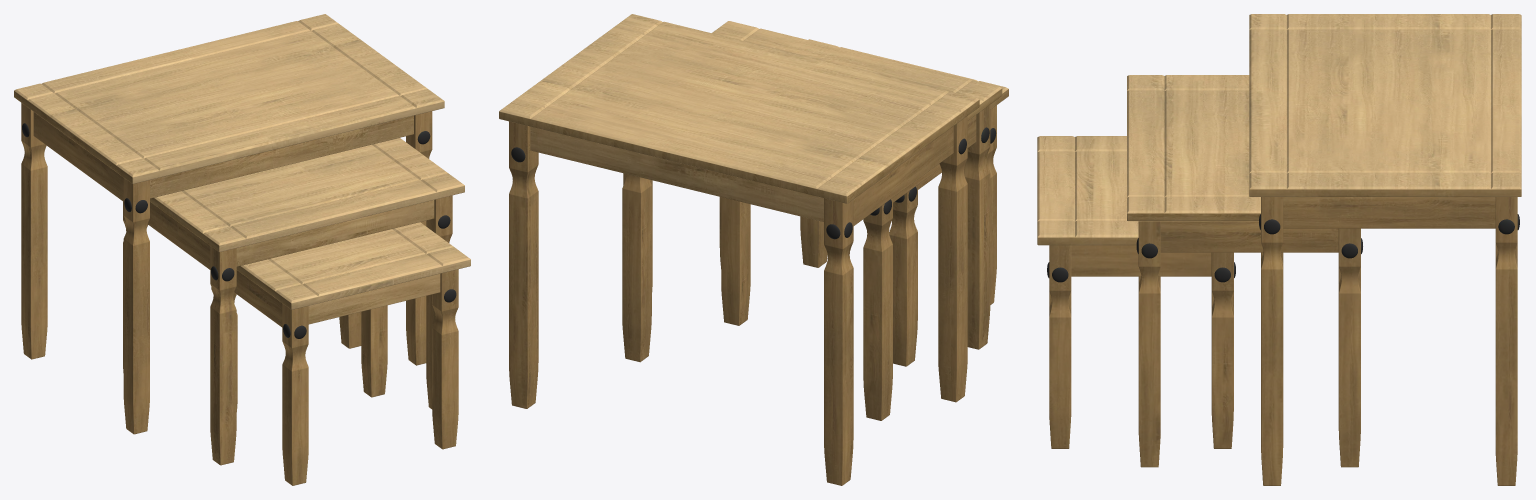
3 renders of one model, left to right at view 1: azimuth 30°, elevation 25°; view 2: azimuth 150°, elevation 25°; view 3: azimuth 270°, elevation 25°, orthographic. The views are drawn at different scales.
Visible parts, largest first — view 1: B003DQ5B2U; view 2: B003DQ5B2U; view 3: B003DQ5B2U.
Boxes of the visible parts, x1,y1,x2,y2 form: B003DQ5B2U: [14, 14, 470, 485]; B003DQ5B2U: [499, 14, 1008, 485]; B003DQ5B2U: [1037, 14, 1521, 485].
Size of the model in its own units: 0.66 by 0.535 by 0.7734.
Materials: 1 (1 with a texture image).
